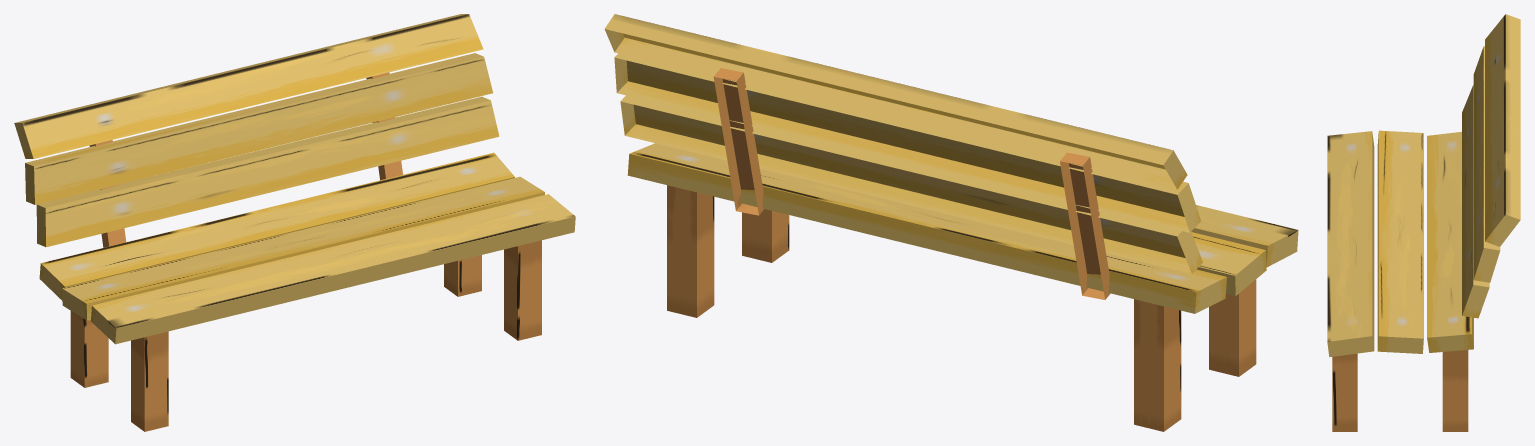
Rendered from PRP_Bench.fbx.
The picture shows the model from 3 angles, left to right: view 1: azimuth 30°, elevation 25°; view 2: azimuth 150°, elevation 25°; view 3: azimuth 270°, elevation 25°; orthographic projection. The views are drawn at different scales.
Visible parts, largest first — view 1: Cube.038, Cube.055, Cube.056; view 2: Cube.038, Cube.055, Cube.056; view 3: Cube.055, Cube.038, Cube.056.
Boxes of the visible parts, x1,y1,x2,y2 form: Cube.038: (14,14,499,247); Cube.055: (39,152,575,344); Cube.056: (70,240,541,431); Cube.038: (604,14,1202,299); Cube.055: (627,143,1298,313); Cube.056: (667,185,1256,431); Cube.055: (1327,130,1473,357); Cube.038: (1462,14,1520,318); Cube.056: (1332,350,1468,431).
Bounding box in the file's own units: 207 × 106 × 81.89.
1 material, 1 textured.
